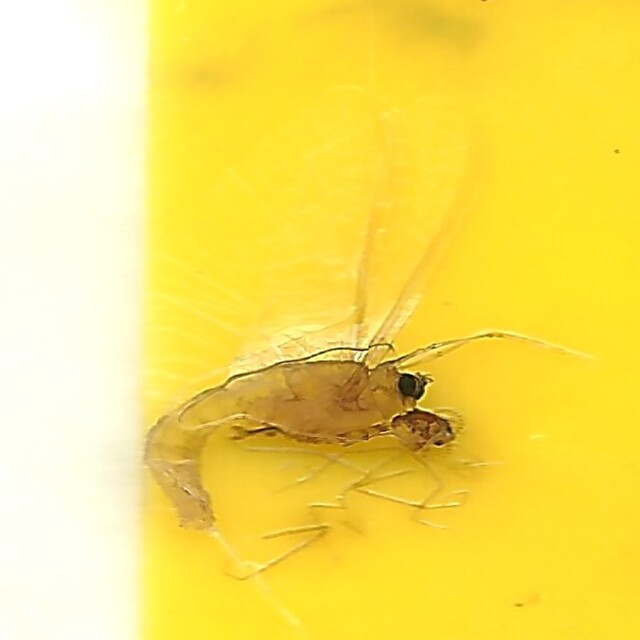Ephemeroptera: (141, 100, 499, 540)
